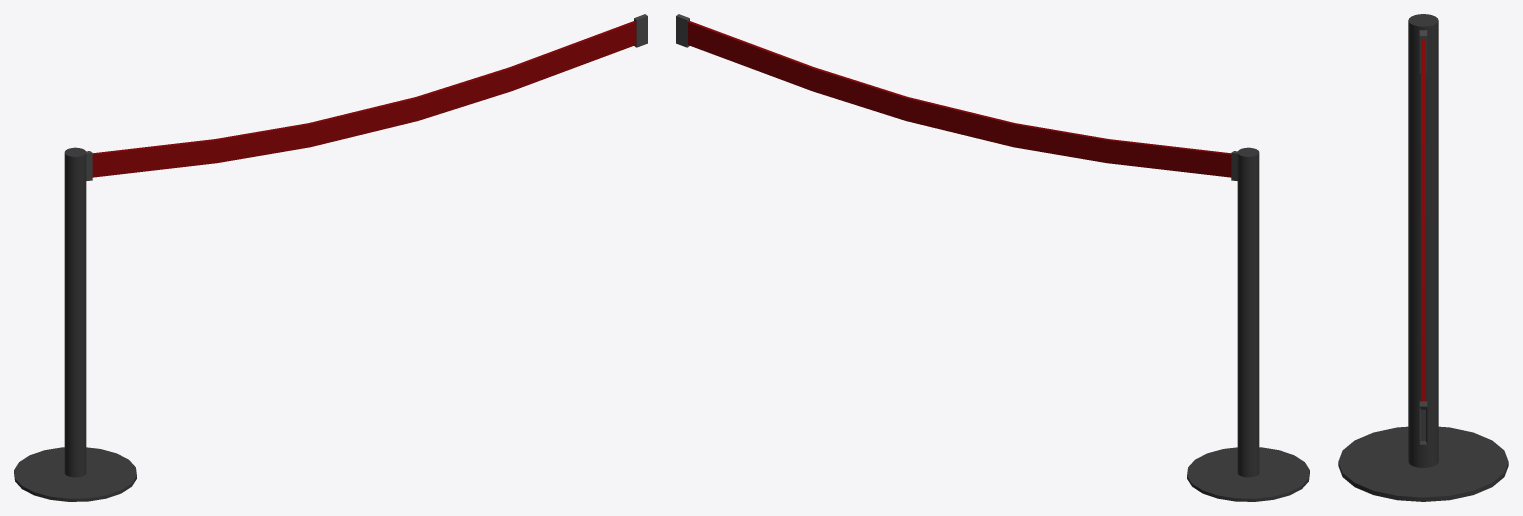
Rendered from M_Fence_0.fbx.
3 views of the same model, side by side, from view 1: azimuth 30°, elevation 25°; view 2: azimuth 150°, elevation 25°; view 3: azimuth 270°, elevation 25° (orthographic). The views are drawn at different scales.
Visible parts, largest first — view 1: M_Fence_0; view 2: M_Fence_0; view 3: M_Fence_0.
Boxes of the visible parts, x1,y1,x2,y2 form: M_Fence_0: [14, 14, 647, 501]; M_Fence_0: [676, 14, 1309, 501]; M_Fence_0: [1338, 14, 1508, 501].
Size of the model in its own units: 874 by 433 by 150.
